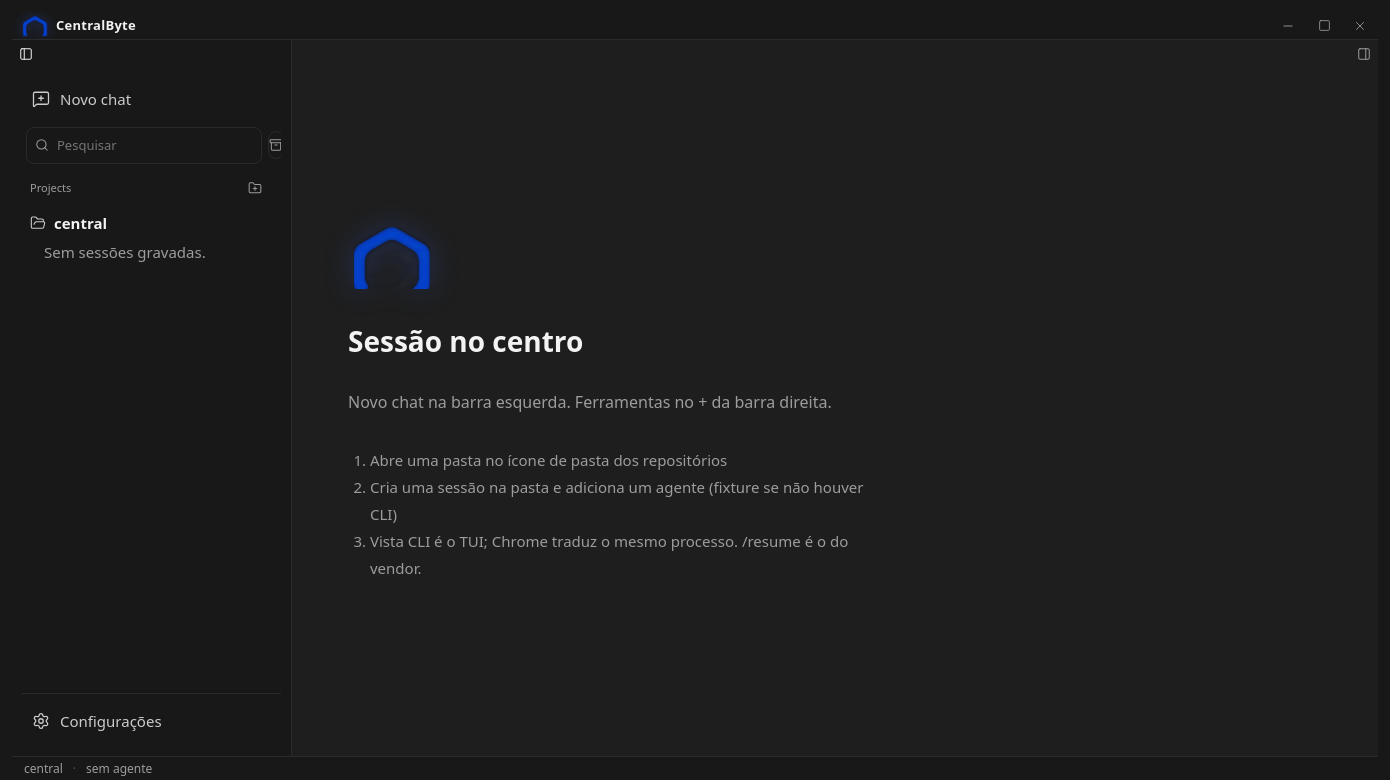
Test: opening a tool from the + menu shows that tool in the right bar
Expected: the button "central" is shown, [30,208,249,238]
// The right bar starts closed, docked as a toggle.
Click the button named "Abrir barra direita".
click(1364, 54)  # box [1350,40,1378,68]
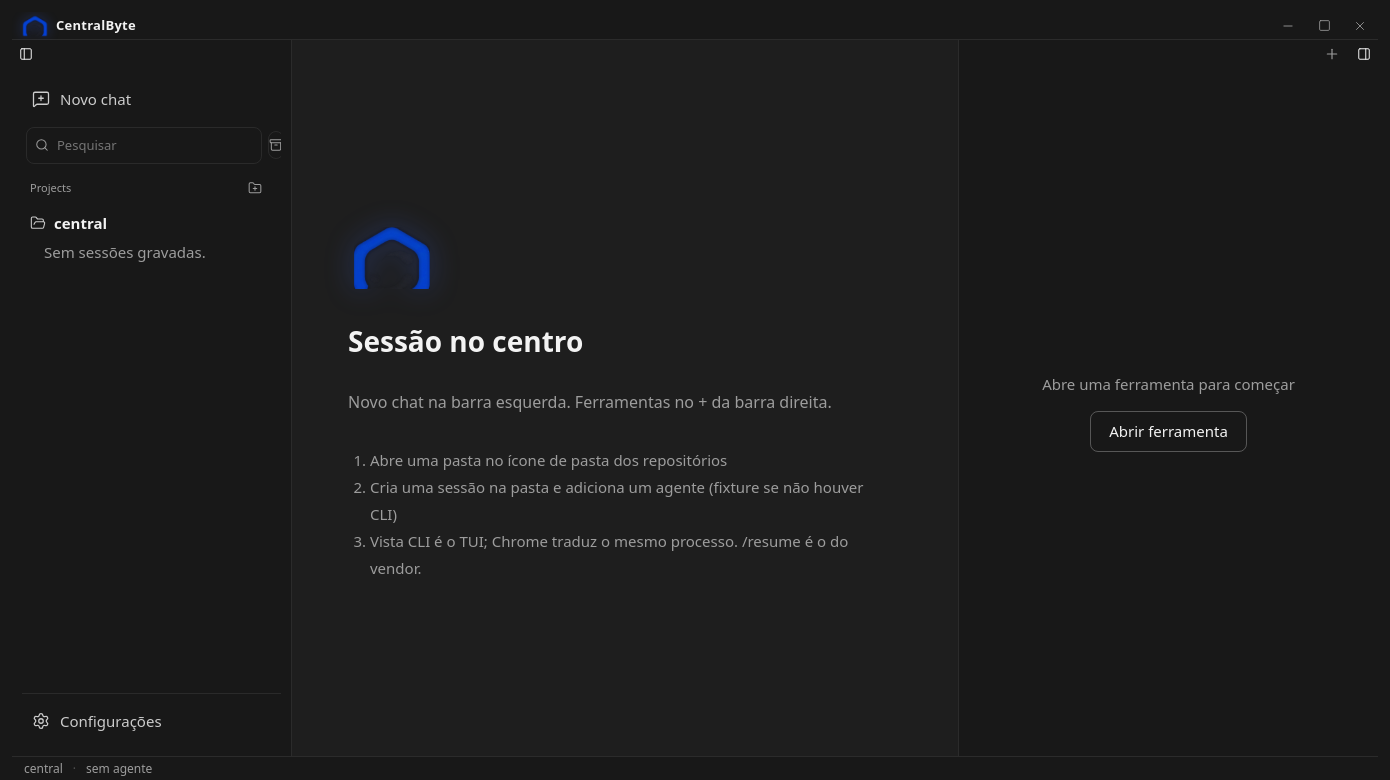
Click the button with class "tab-add".
click(1332, 54)  # box [1314,40,1350,68]
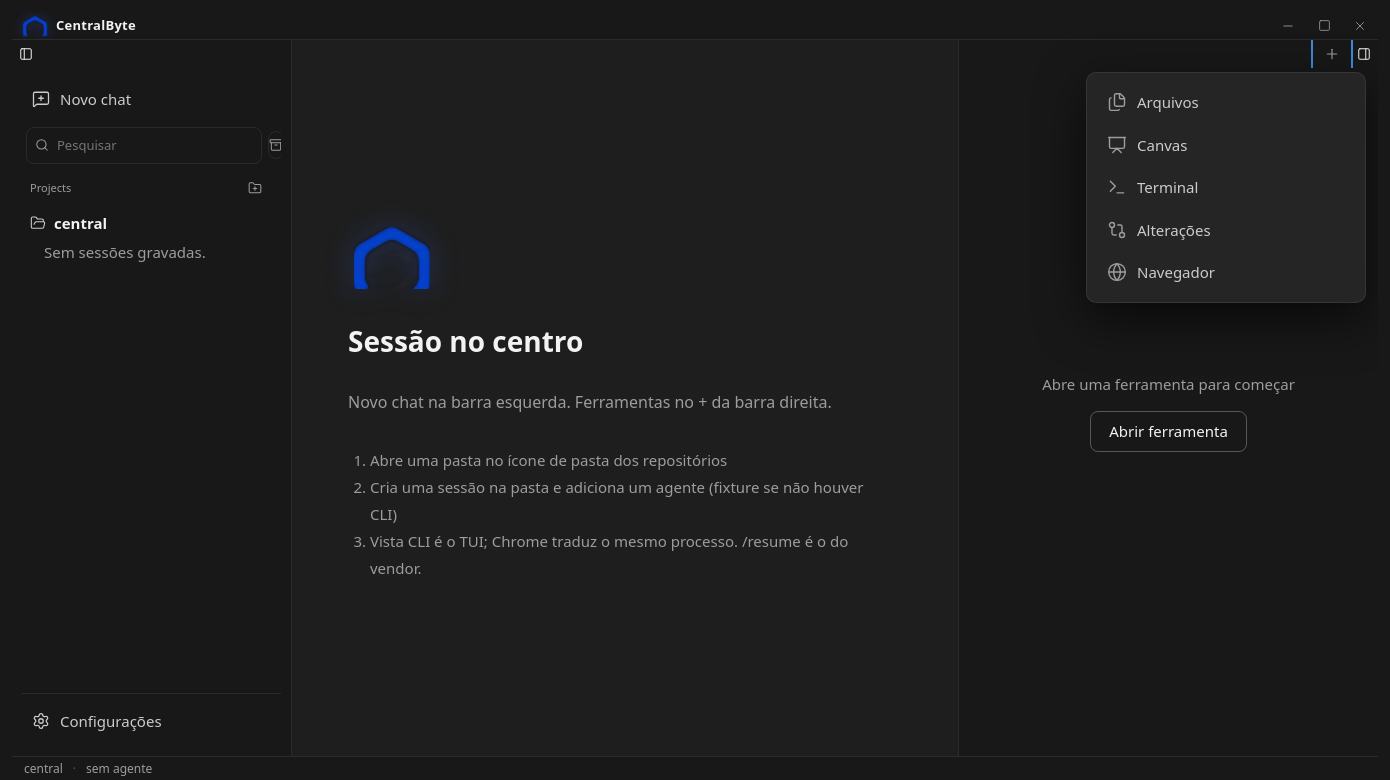
Click the button "Alterações".
click(1174, 230)  # box [1095,208,1357,251]
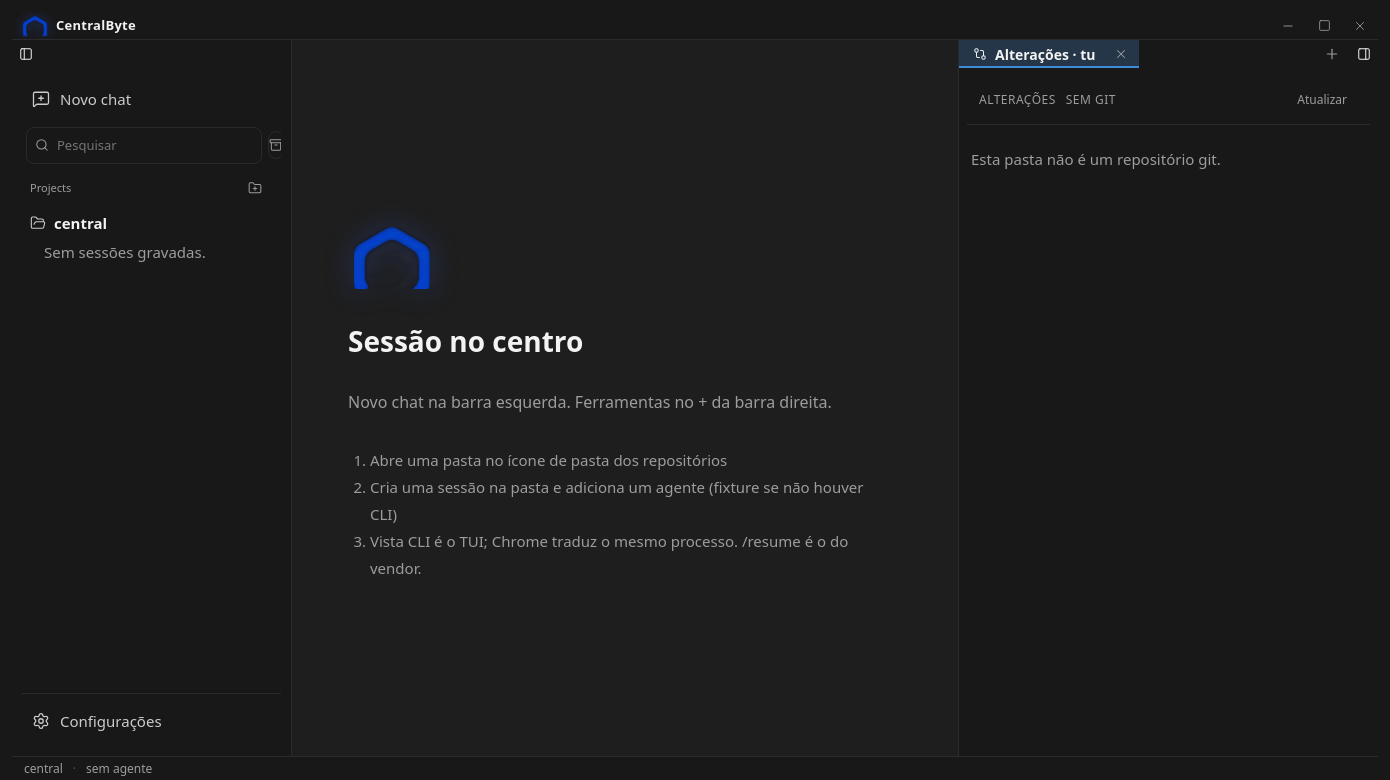
Expected: the text "sem git" is shown, [1066,91,1116,109]
Expected: the text "Esta pasta não é um repositório git." is shown, [971,149,1221,169]
